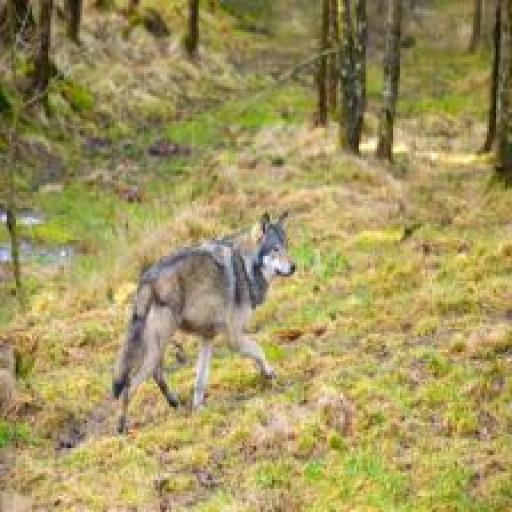wolf: (96, 197, 319, 432)
